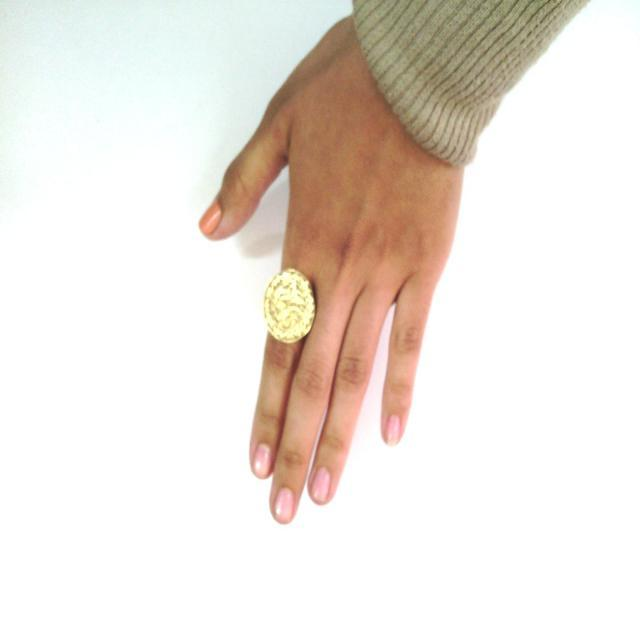Fingernail: (200, 202, 221, 232), (312, 467, 329, 502), (275, 488, 293, 521), (255, 444, 271, 475), (387, 416, 400, 445)
